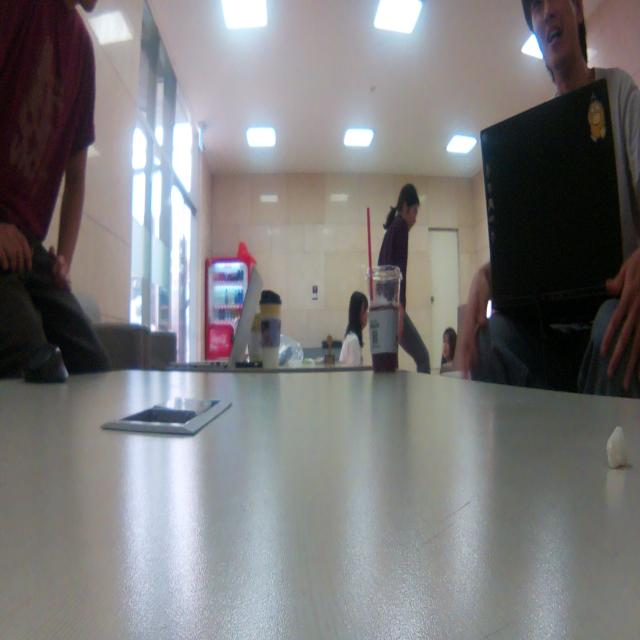target: (323, 334, 336, 367)
